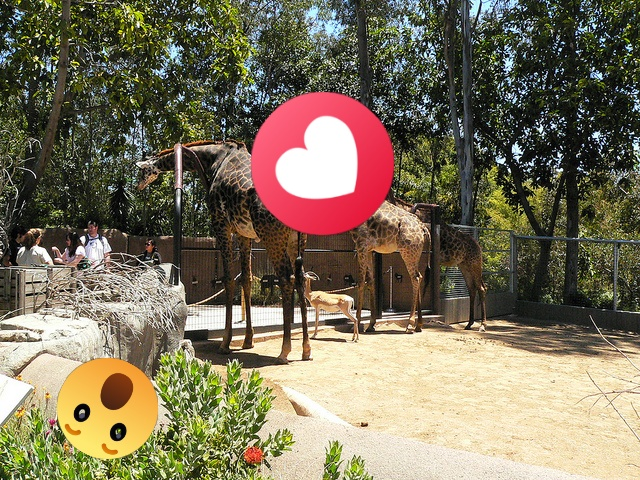love: (251, 92, 394, 235)
wow: (57, 358, 158, 459)
